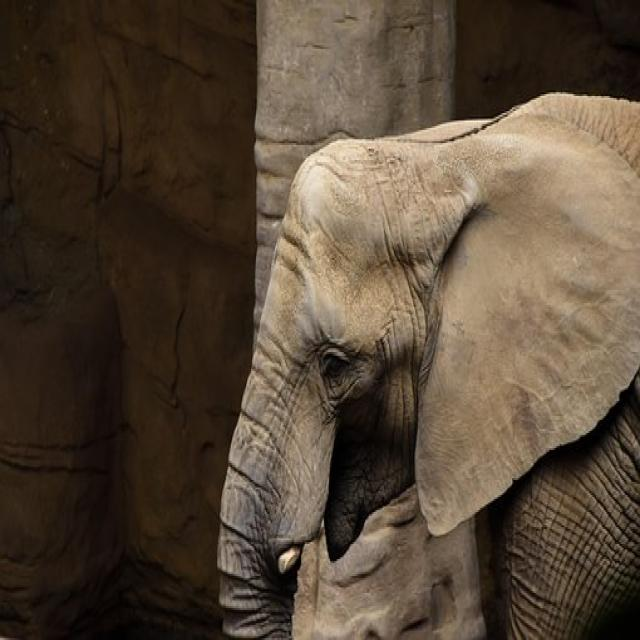Elephant: (184, 90, 640, 640)
